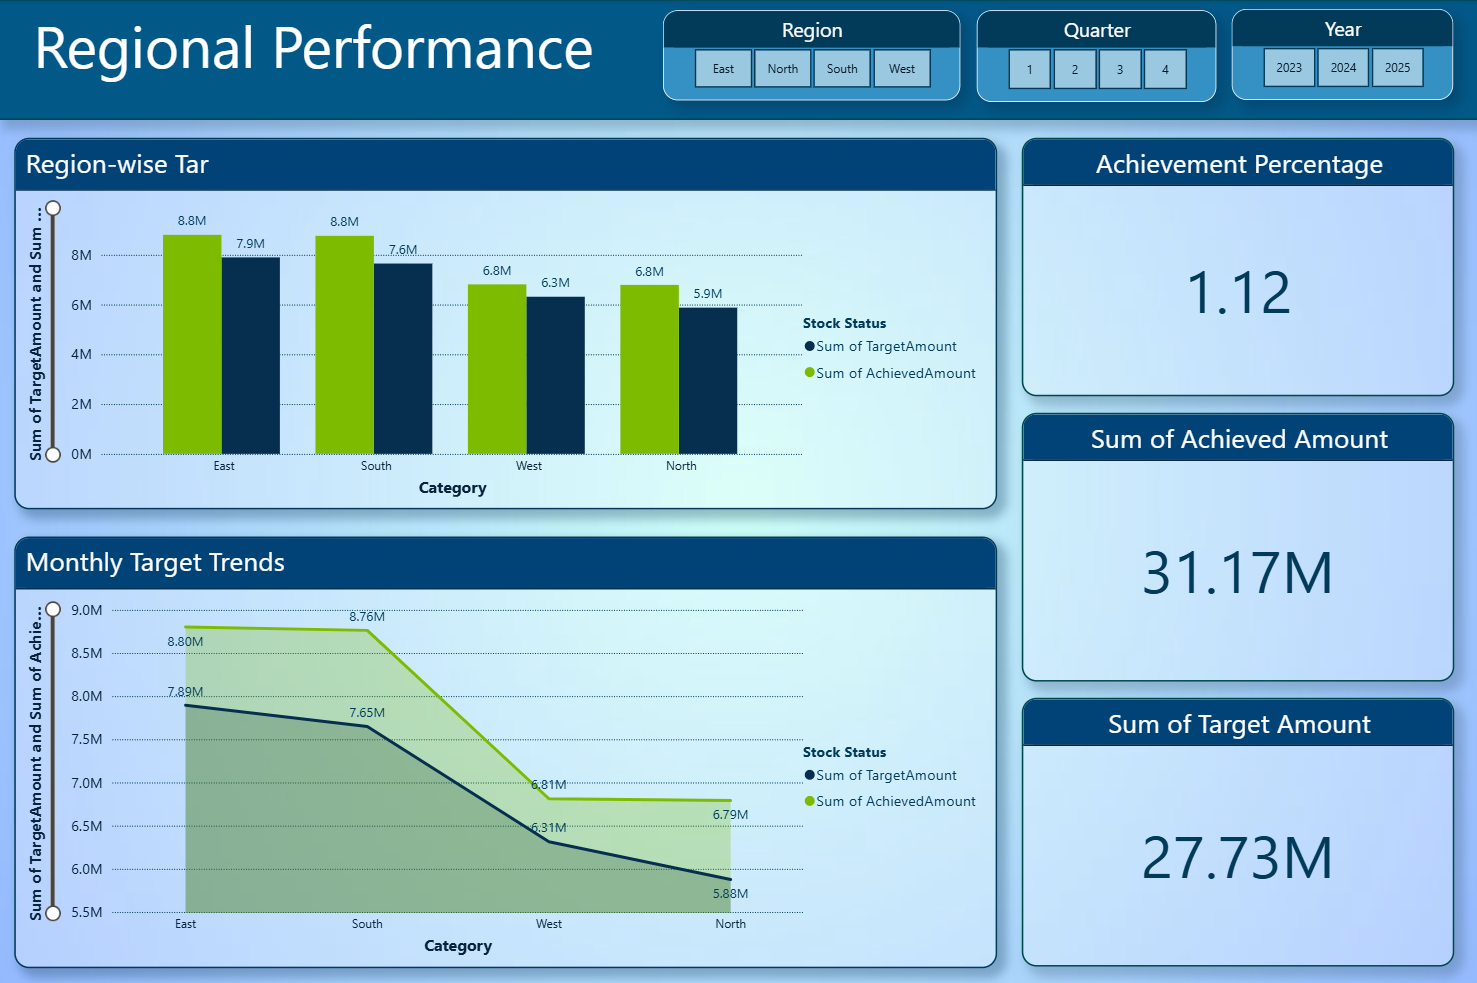

What the dashboard file says about the page in this screenshot:
{"tool":"powerbi","page":{"name":"Regional Performance","canvas":[1500,1000],"ordinal":3},"visuals":[{"type":"textbox","title":"Sales Overview","box":[0,0,1500.3,122.8],"z":0},{"type":"card","title":"Achievement Percentage","fields":{"Values":["Regional Targets.Achievement%"]},"box":[1035.9,140.1,437.7,261.3],"z":1000},{"type":"slicer","title":"Region","fields":{"Values":["Customers.Region"]},"box":[672.2,11,300.7,91.3],"z":2000},{"type":"slicer","title":"Year","fields":{"Values":["Sales.SaleYear"]},"box":[1247.8,10.3,224.1,92.3],"z":3000},{"type":"clusteredColumnChart","title":"Region-wise Tar","fields":{"Category":["Regional Targets.Region"],"Y":["Sum(Regional Targets.TargetAmount)","Sum(Regional Targets.AchievedAmount)"]},"box":[16.1,140.6,994.4,376.4],"z":4000},{"type":"lineChart","title":"Monthly Target Trends","fields":{"Category":["Regional Targets.Region"],"Y":["Sum(Regional Targets.TargetAmount)","Sum(Regional Targets.AchievedAmount)"]},"box":[16.1,543.4,994.4,436.4],"z":5000},{"type":"slicer","title":"Quarter","fields":{"Values":["Sales.SaleQuarter"]},"box":[990.2,11,242.4,92.9],"z":6000},{"type":"card","title":"Sum of Achieved Amount","fields":{"Values":["Sum(Regional Targets.AchievedAmount)"]},"box":[1035.9,418.8,437.7,272.4],"z":7000},{"type":"card","title":"Sum of Target Amount","fields":{"Values":["Sum(Regional Targets.TargetAmount)"]},"box":[1035.9,706.9,437.7,272.4],"z":8000}]}

Visuals, with their boxes in screenshot pixels (x1, y1, x2, y2), scaled from the page's 1500x1000 canvas onto the 1477x983 screenshot:
"Sales Overview" textbox: <region>0, 0, 1476, 121</region>
"Achievement Percentage" card: <region>1020, 138, 1451, 395</region>
"Region" slicer: <region>662, 11, 958, 101</region>
"Year" slicer: <region>1229, 10, 1449, 101</region>
"Region-wise Tar" clusteredColumnChart: <region>16, 138, 995, 508</region>
"Monthly Target Trends" lineChart: <region>16, 534, 995, 963</region>
"Quarter" slicer: <region>975, 11, 1214, 102</region>
"Sum of Achieved Amount" card: <region>1020, 412, 1451, 679</region>
"Sum of Target Amount" card: <region>1020, 695, 1451, 963</region>
